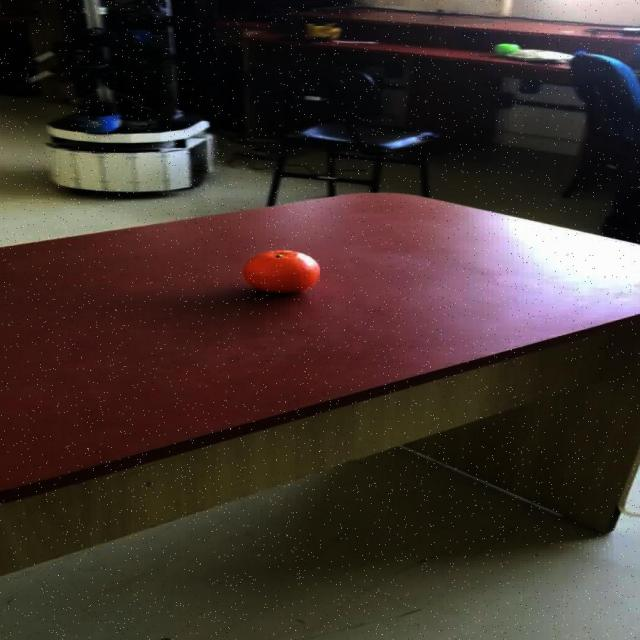Orange: (244, 249, 323, 294), (494, 42, 523, 55)
